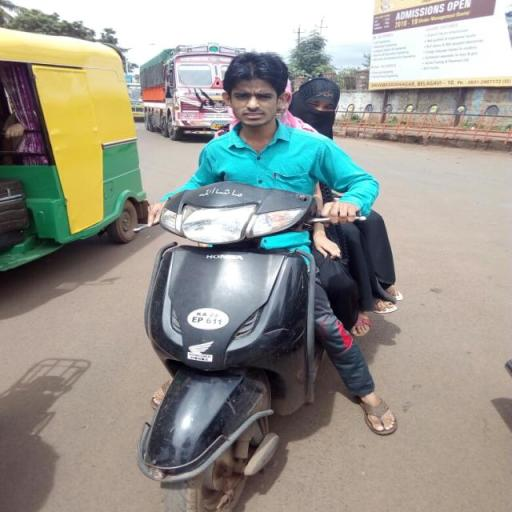tripple riding: (164, 46, 384, 259)
